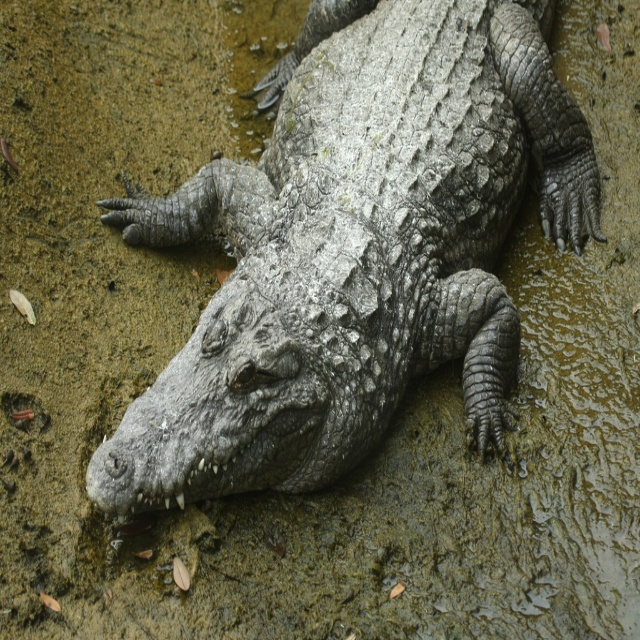Crocodile: (86, 0, 607, 524)
